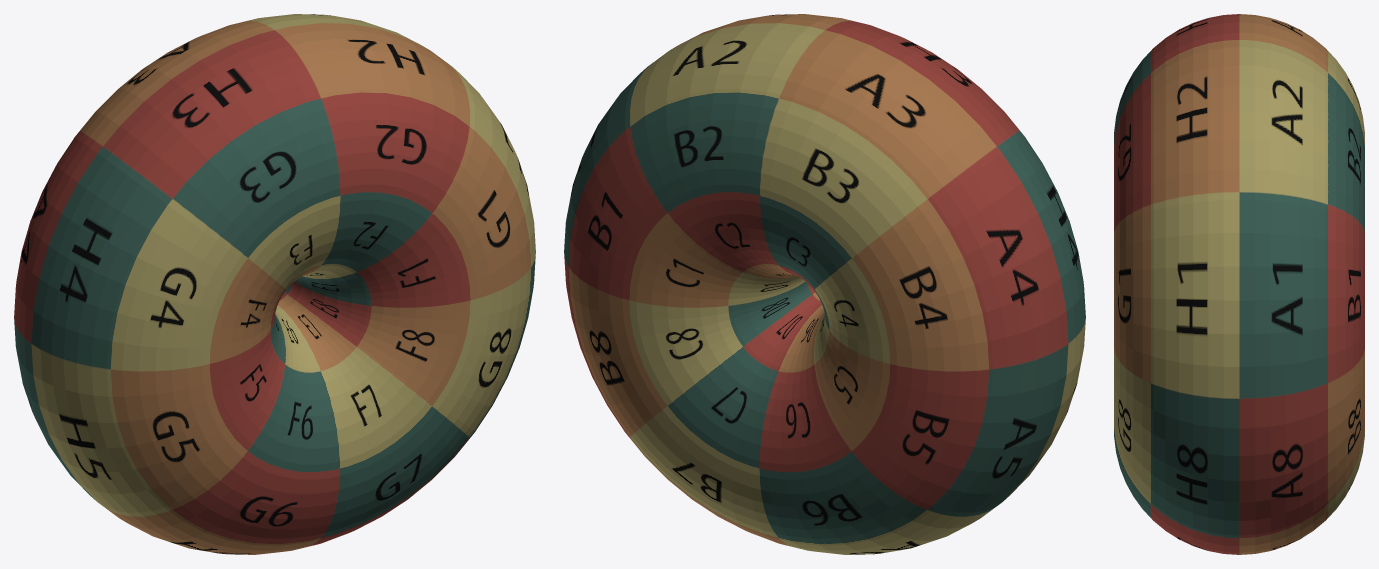
The model's file is texture_torus_R0_r25.glb.
3 views of the same model, side by side, from view 1: azimuth 30°, elevation 25°; view 2: azimuth 150°, elevation 25°; view 3: azimuth 270°, elevation 25° (orthographic). The views are drawn at different scales.
Parts seen in each view (by area): view 1: world; view 2: world; view 3: world.
Part boxes in pixels (x1,y1,x2,y2): world: [14, 14, 535, 554]; world: [564, 14, 1085, 554]; world: [1114, 14, 1364, 554].
Bounding box in the file's own units: 18.67 × 18.63 × 8.65.
1 material, 1 textured.
